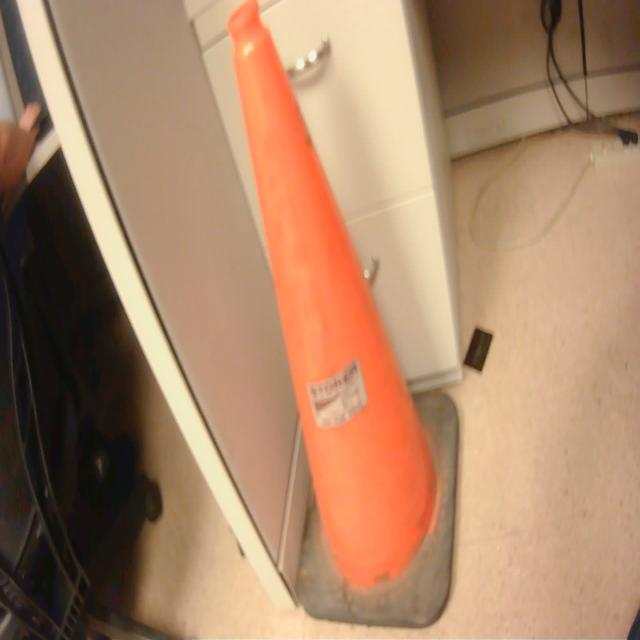traffic cone: (225, 4, 467, 639)
